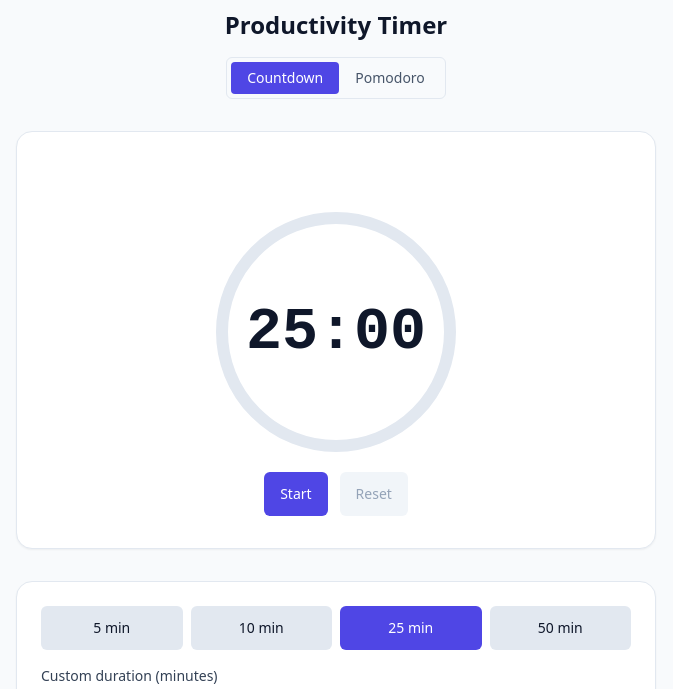
Scenario: Background throttling + visibility › updates immediately on visibilitychange after a throttled gap
Click the button "Start" at [296, 494], box x1=264 y1=472 x2=328 y2=516
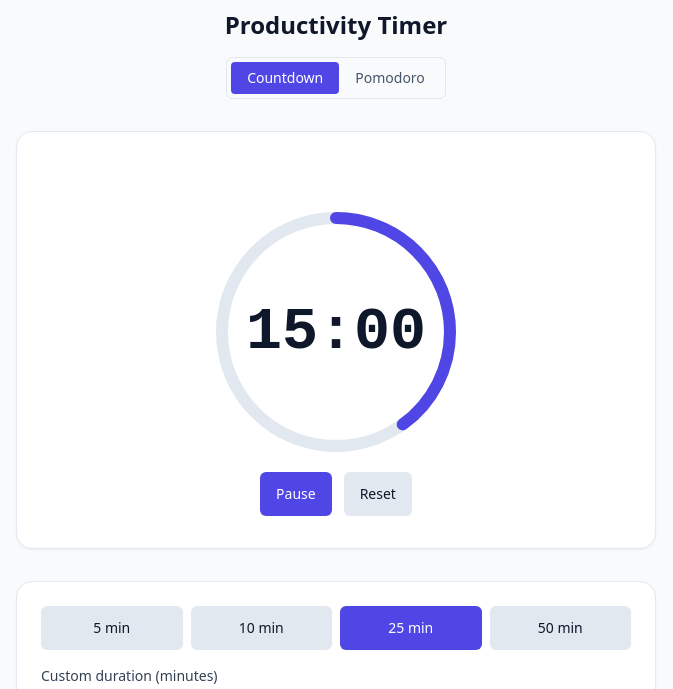
Expected: the text "15:00" is shown, x1=246 y1=302 x2=426 y2=362
